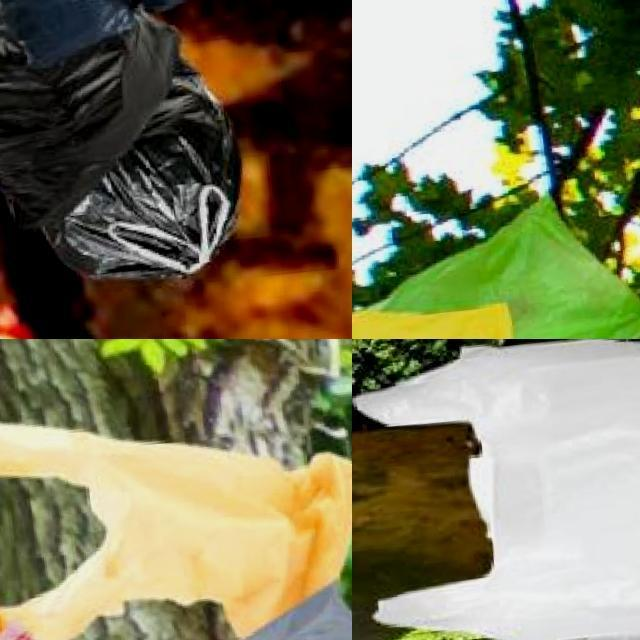waste: (0, 382, 352, 640), (352, 339, 640, 640), (0, 0, 218, 283), (388, 177, 640, 339)
